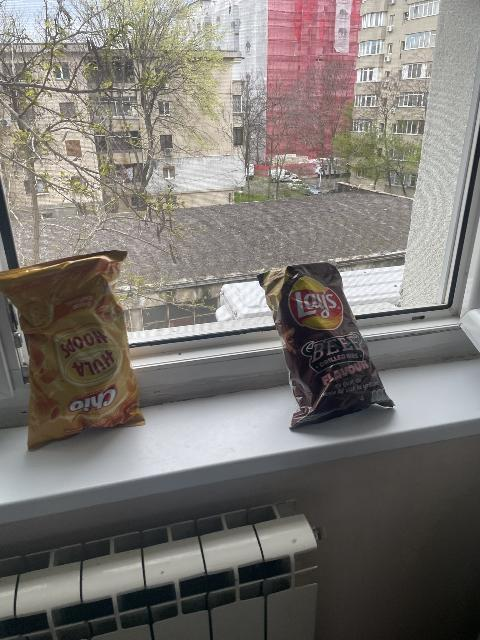Chio Hula Hoops Cheese 70g: (1, 254, 149, 447)
Lays Beef Grilled Ribs 125g: (262, 262, 393, 424)
